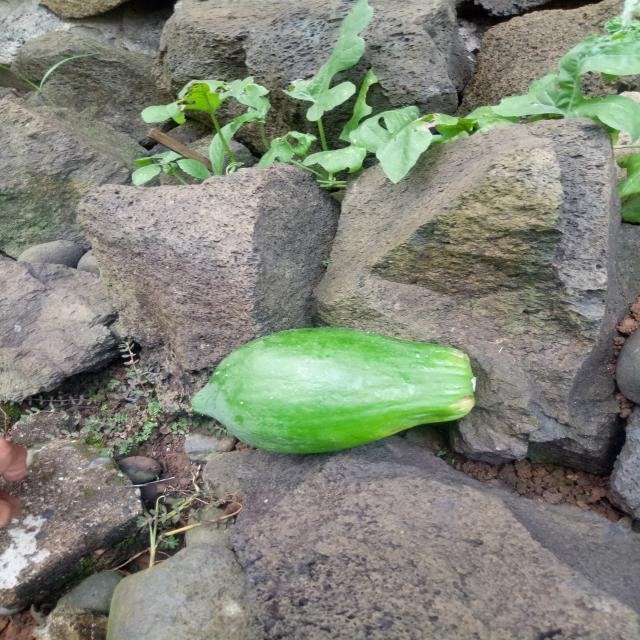Pepaya unrippen: (188, 330, 484, 459)
